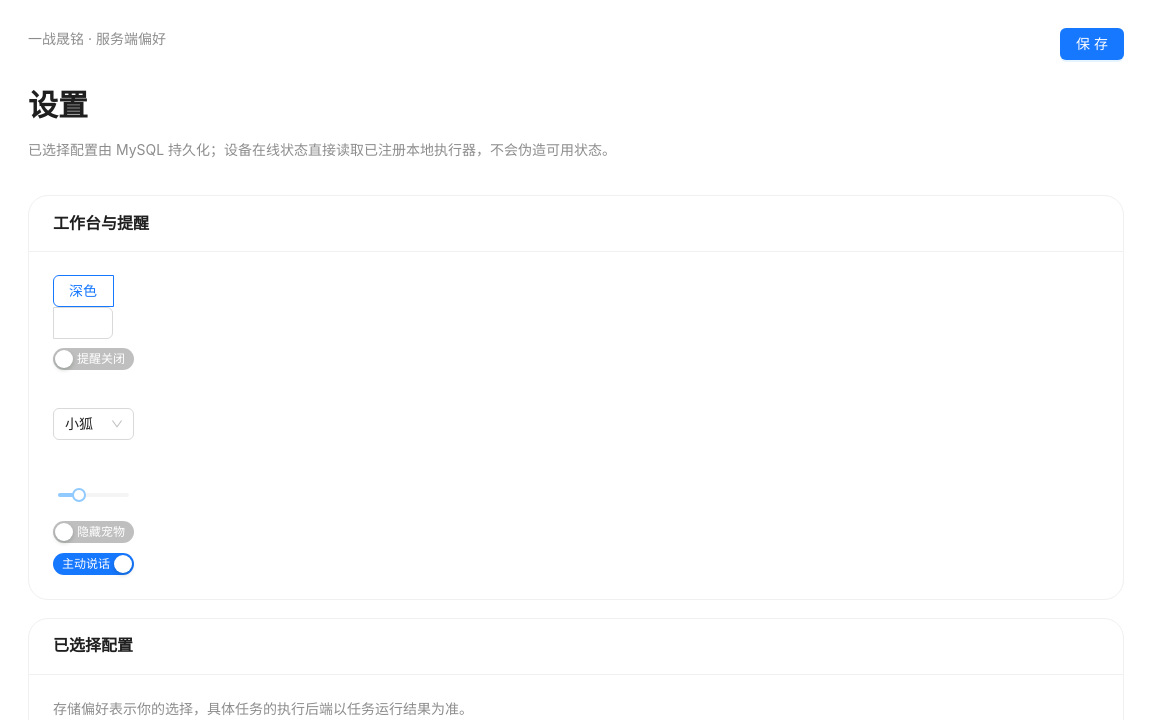
SettingsPage › sends explicit full Save through the shared queue once and adopts returned normalized settings
The width and height of the screenshot is (1152, 720).
What coordinates should you click on to do the following:
click the switch labelled "提醒开启 提醒关闭"
I would click on:
 (94, 359)
Its box is [53,348,134,370].
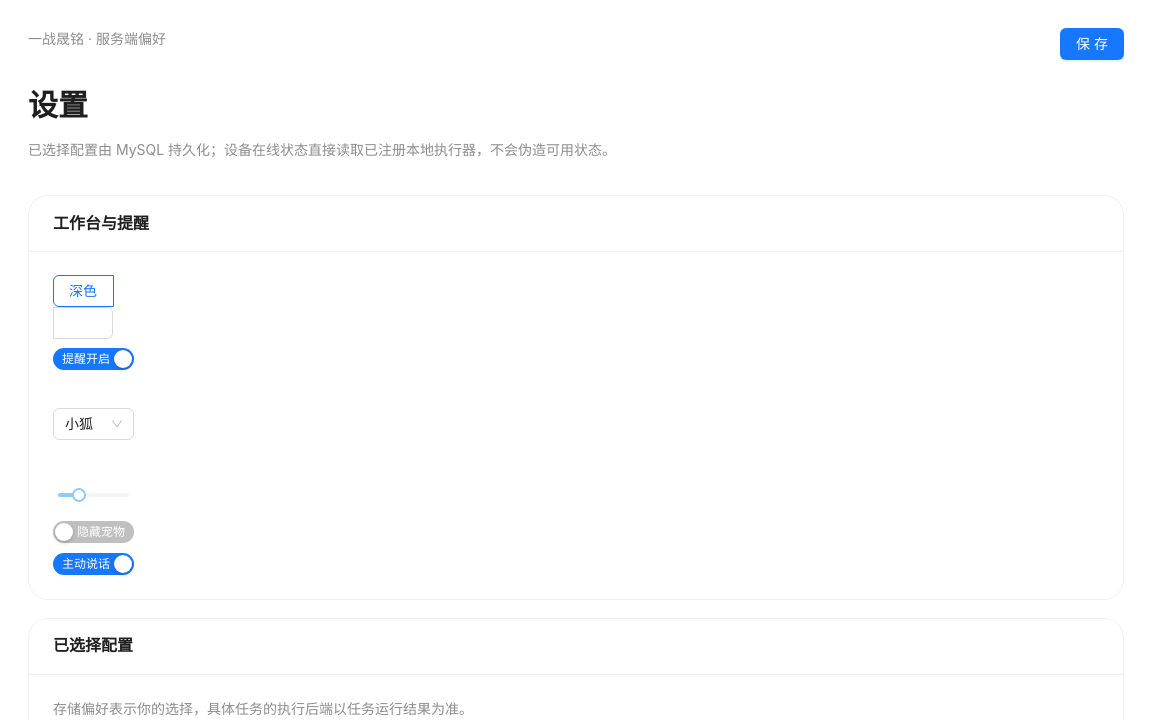
What coordinates should you click on to do the following:
click the button "保 存"
I would click on:
 (1092, 44)
Its box is [1060,28,1124,60].
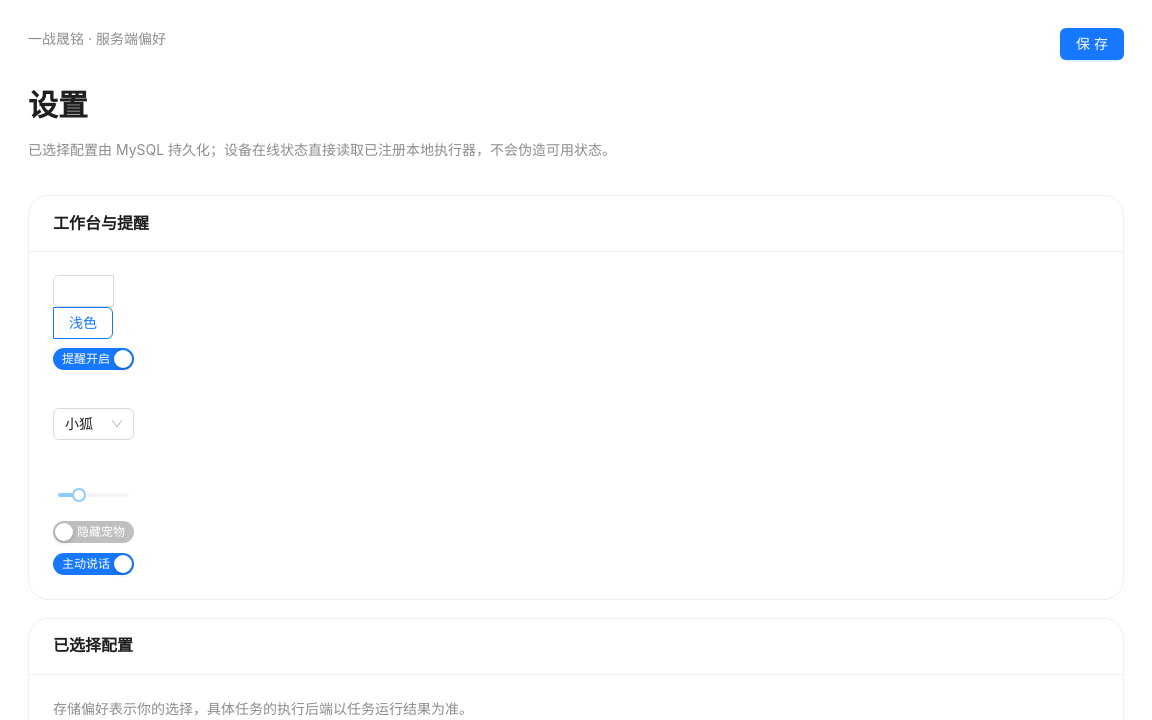
Check: the radio button labelled "浅色" is checked, box [53,307,113,339]
